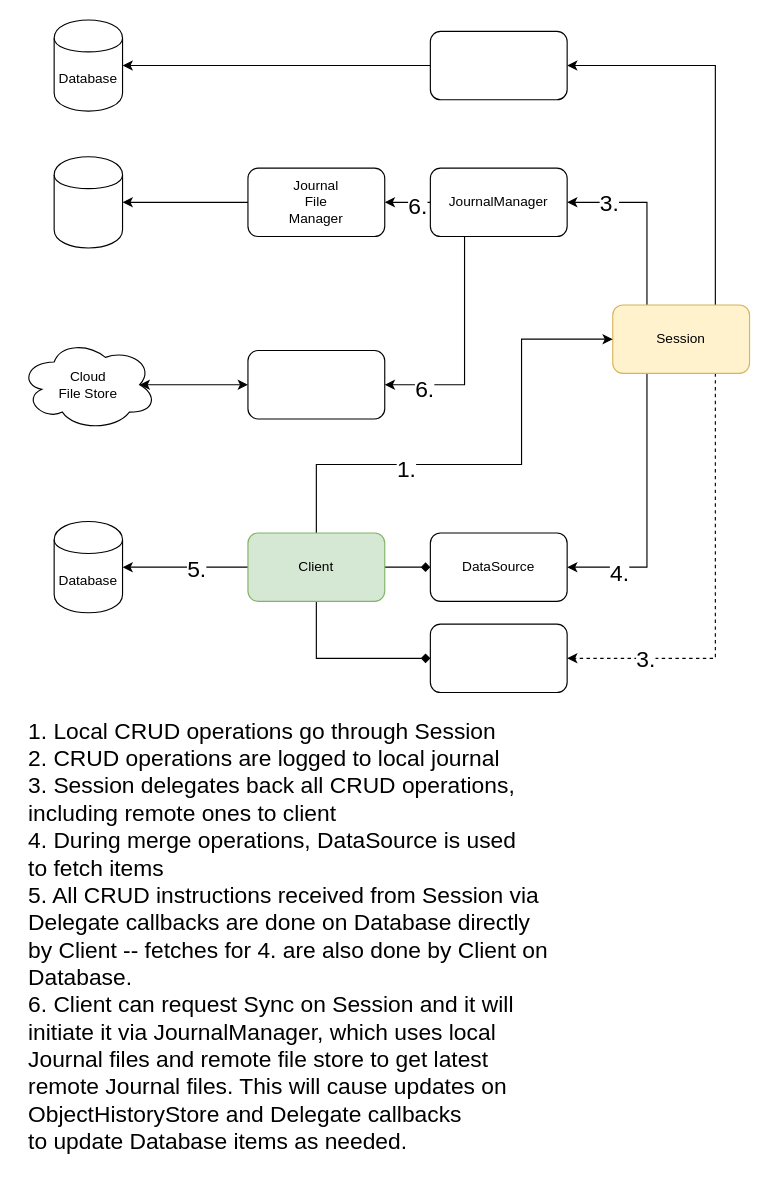
Image size: 770x1203. Some labels were removed from this diagram. The centre of each missing label's shape, as x and y in pixels:
"Delegate" goes at (x=498, y=658).
"Local File Store" goes at (x=88, y=202).
"ObjectHistoryStore" goes at (x=498, y=65).
"Remote File Store" goes at (x=316, y=384).
